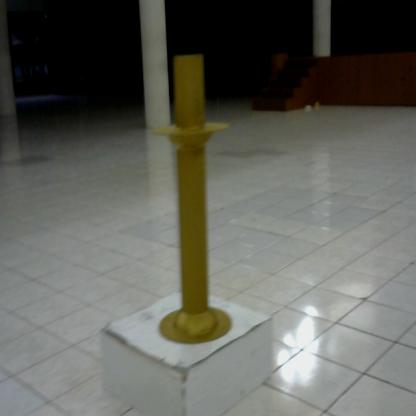pole: (152, 52, 239, 350)
